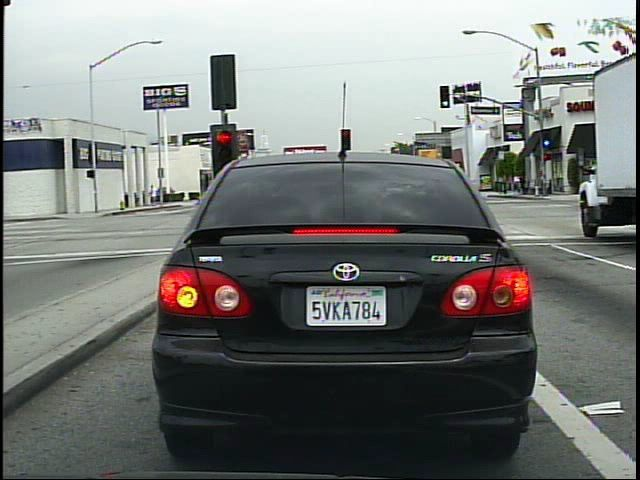person: (517, 171, 529, 197), (151, 181, 161, 207)
